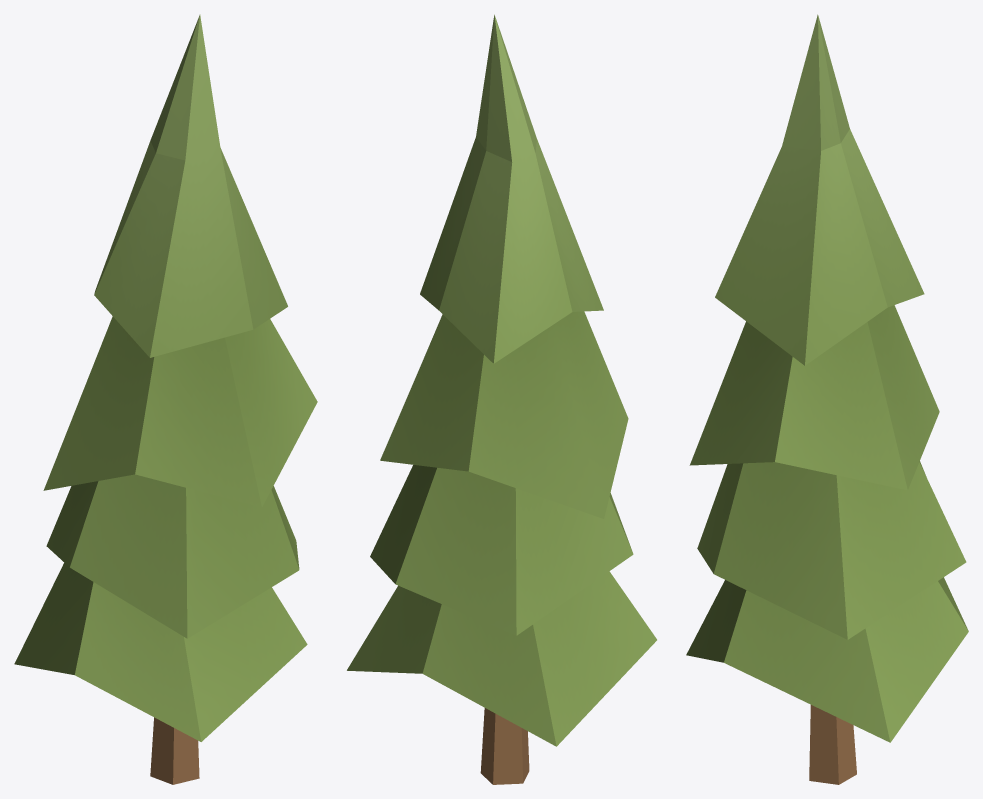
Rendered from Pine_Tree_m_09.fbx.
The picture shows the model from 3 angles, left to right: view 1: azimuth 30°, elevation 25°; view 2: azimuth 150°, elevation 25°; view 3: azimuth 270°, elevation 25°; orthographic projection. The views are drawn at different scales.
Visible parts, largest first — view 1: Pine_Tree_m_09; view 2: Pine_Tree_m_09; view 3: Pine_Tree_m_09.
Part boxes in pixels (x1,y1,x2,y2): Pine_Tree_m_09: [14, 14, 317, 784]; Pine_Tree_m_09: [347, 14, 656, 784]; Pine_Tree_m_09: [686, 14, 968, 784].
Size of the model in its own units: 212 by 594 by 198.
